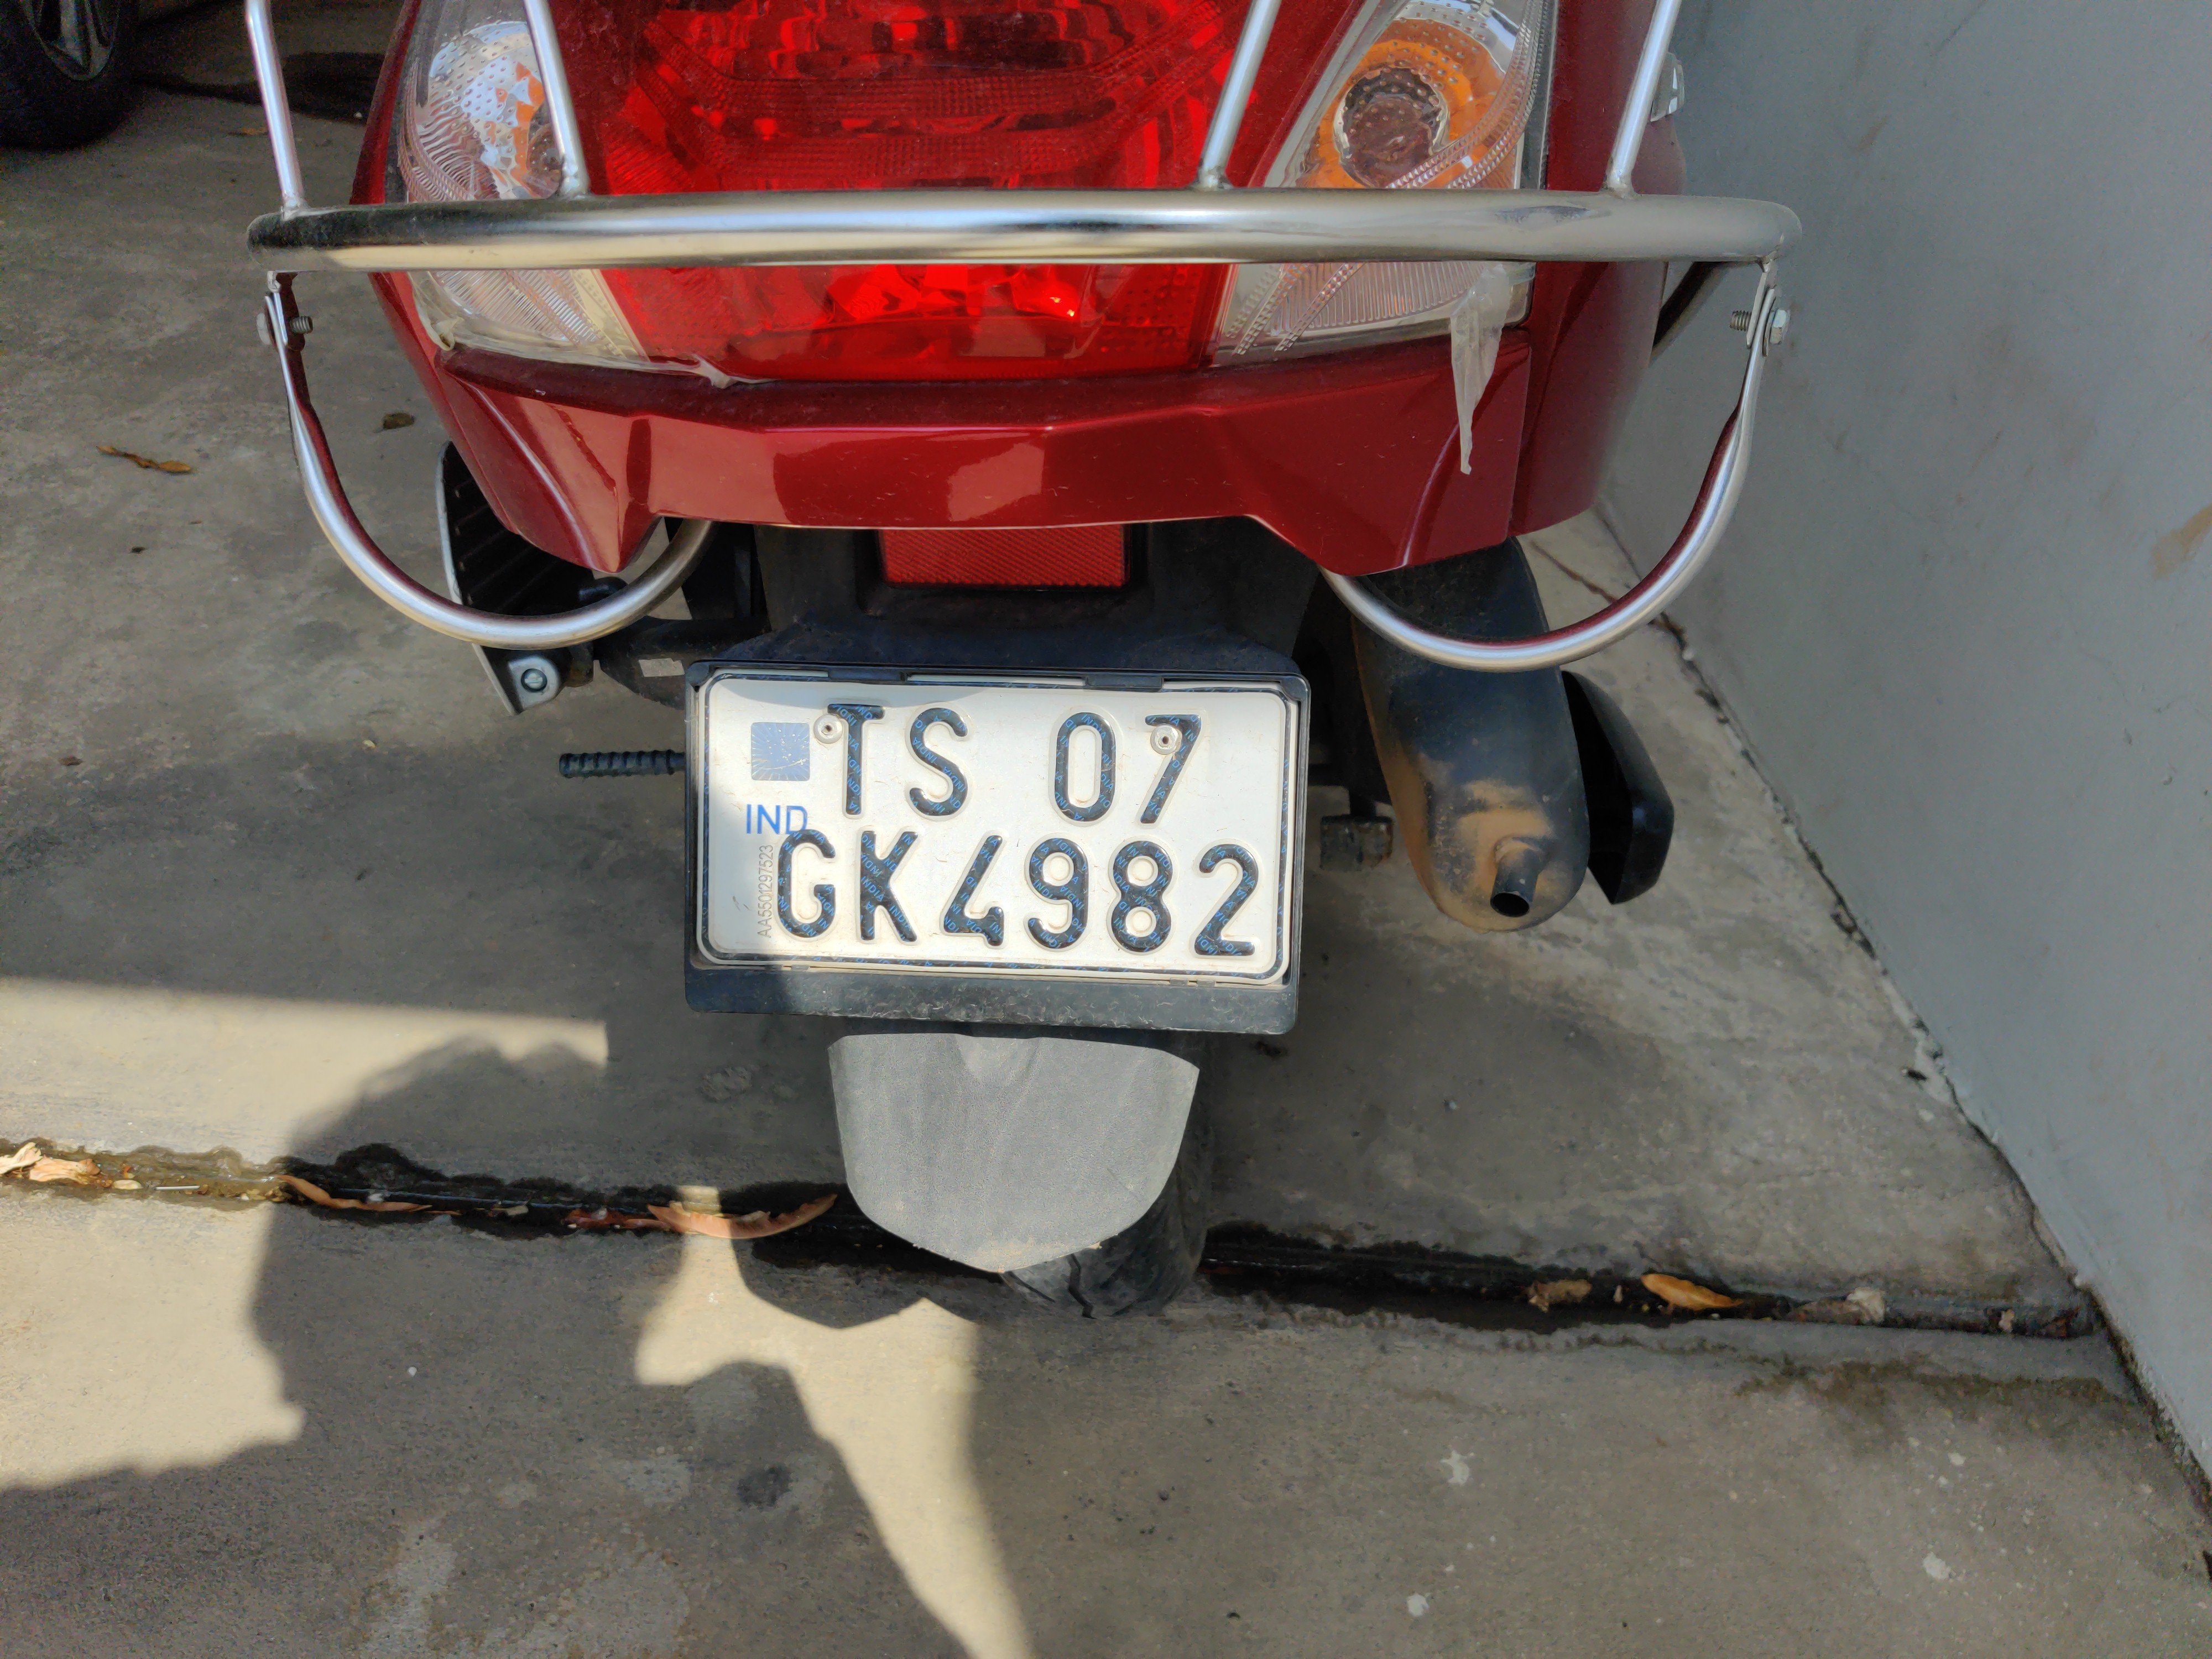plate: (666, 622, 1380, 1081)
